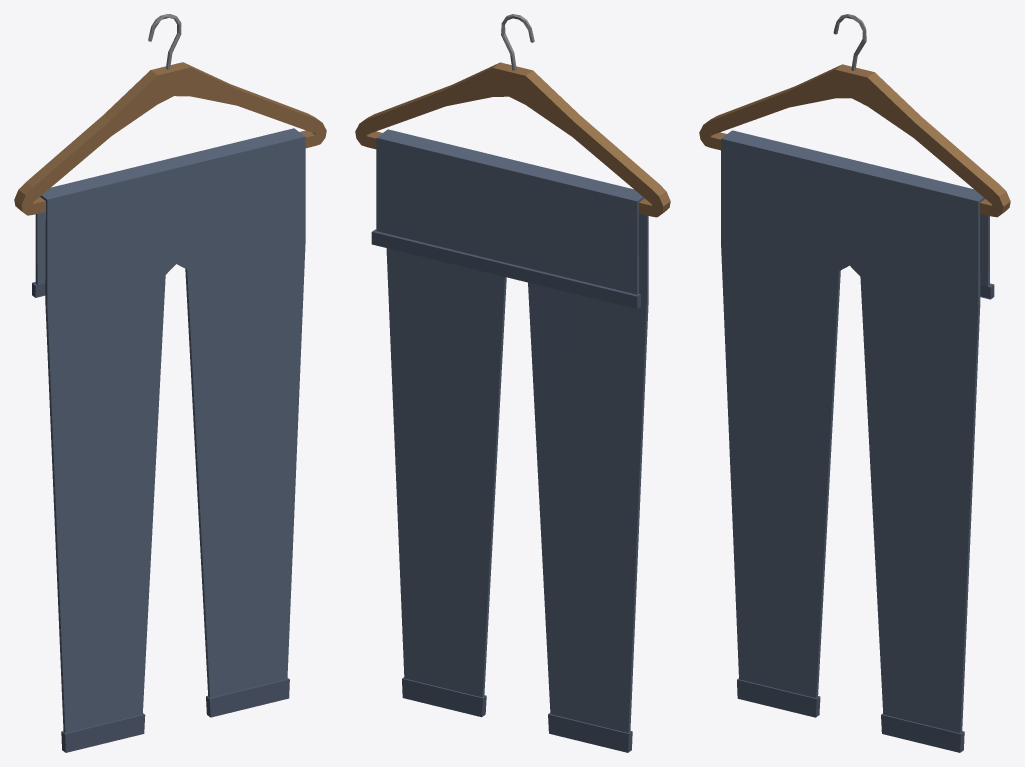
Rendered from Clothes5_C1.fbx.
The picture shows the model from 3 angles, left to right: view 1: azimuth 30°, elevation 25°; view 2: azimuth 150°, elevation 25°; view 3: azimuth 330°, elevation 25°; orthographic projection.
Parts seen in each view (by area): view 1: Clothes5_C1; view 2: Clothes5_C1; view 3: Clothes5_C1.
Boxes of the visible parts, bbox=[...] form: Clothes5_C1: bbox=[14, 14, 326, 752]; Clothes5_C1: bbox=[355, 14, 670, 752]; Clothes5_C1: bbox=[699, 14, 1010, 752].
Size of the model in its own units: 42.14 by 93.33 by 3.43.
